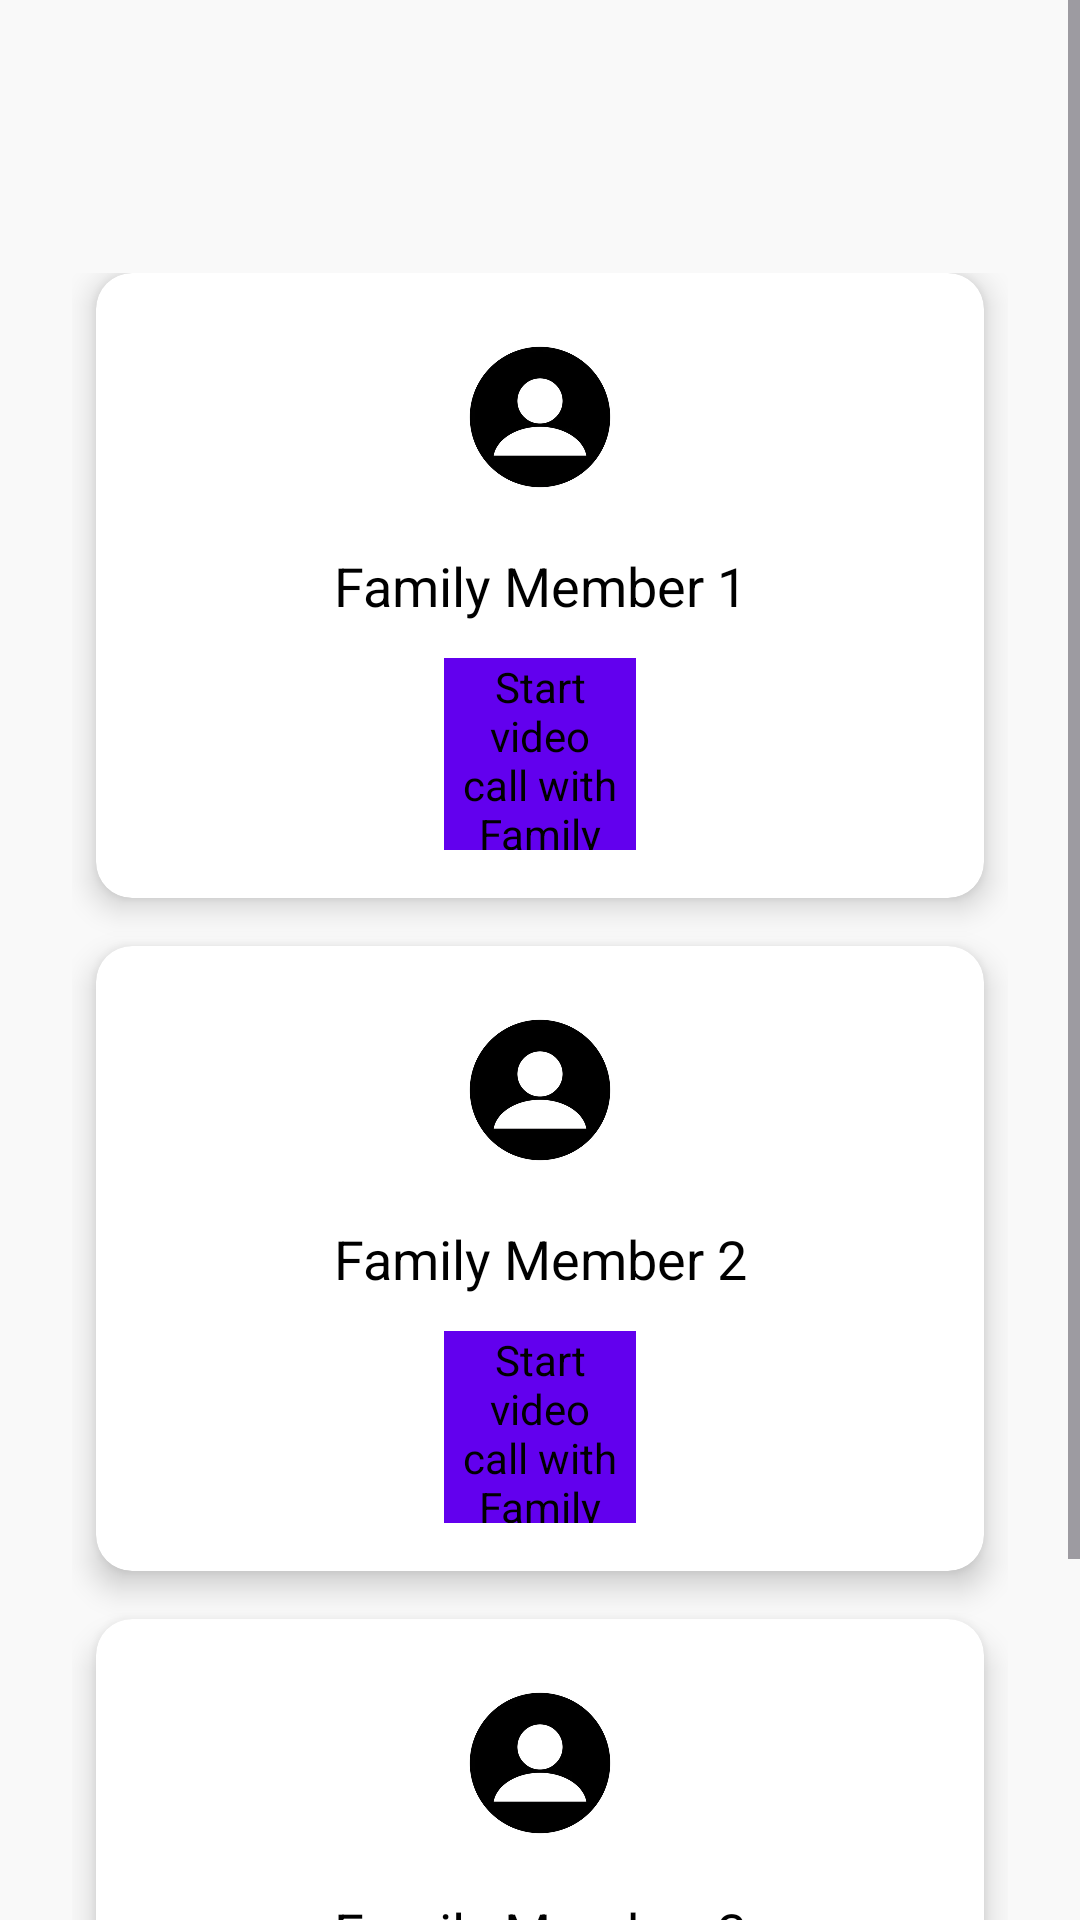

Screen size 1080w x 1920h. Icon name, then its center in pixels as (x=x, y=y):
account: (x=540, y=417), (x=540, y=1090), (x=540, y=1763)
